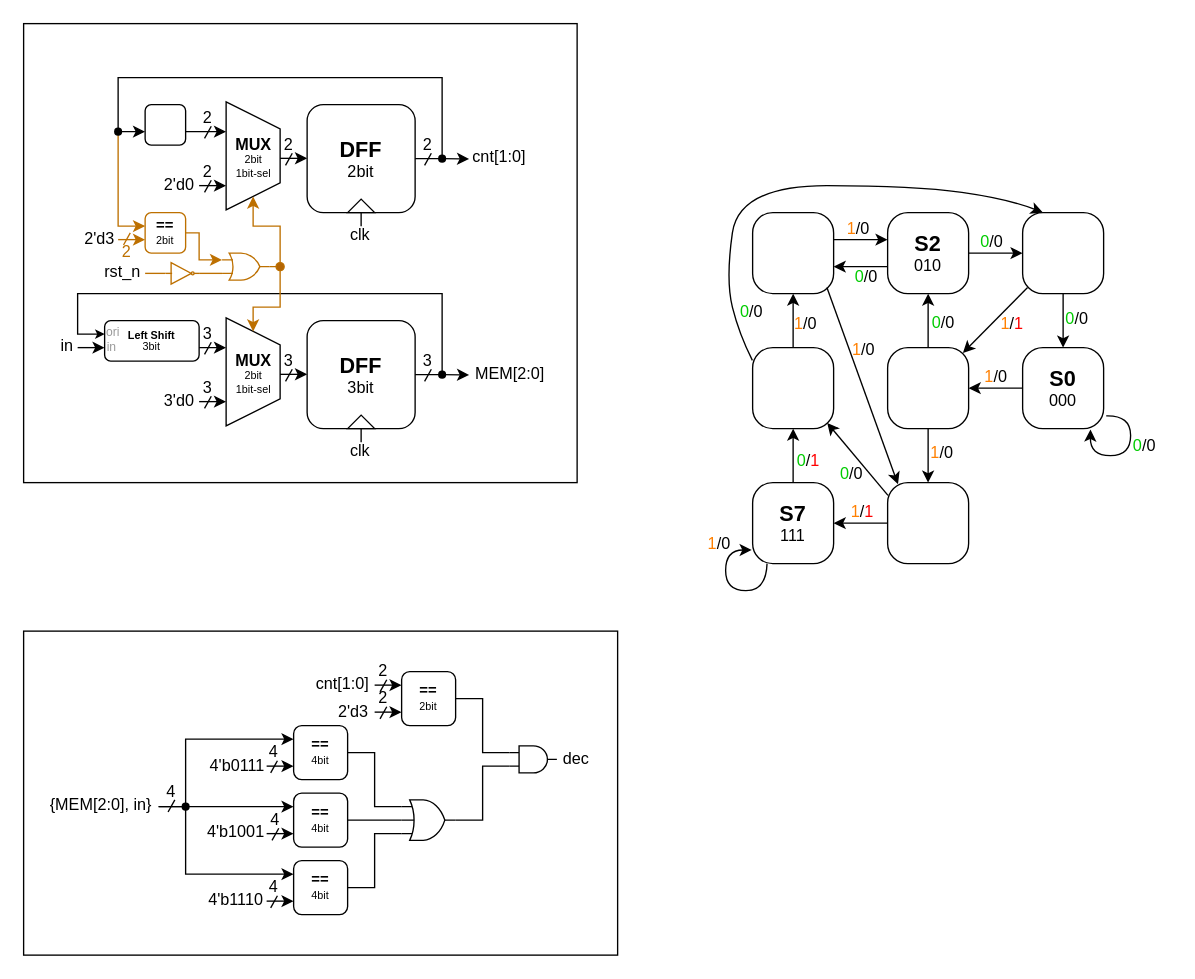
Image size: 1195x979. Some labels were removed from this diagram. Here are the shapes that lost their labels. From the top down, the centre of each, then its label:
At [165,124]: "+1 2bit".
At [792,252]: "S5 101".
At [1062,252]: "S4 100".
At [792,387]: "S6 110".
At [927,387]: "S1 001".
At [927,522]: "S3 011".
